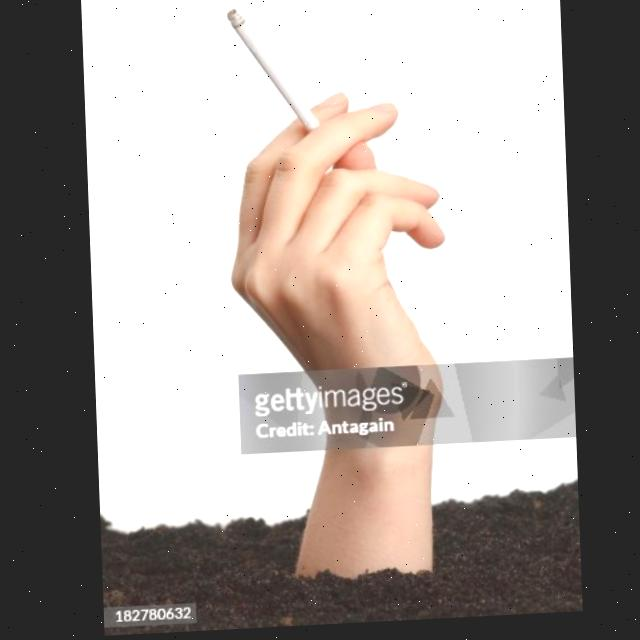cigarette: (227, 8, 320, 140)
